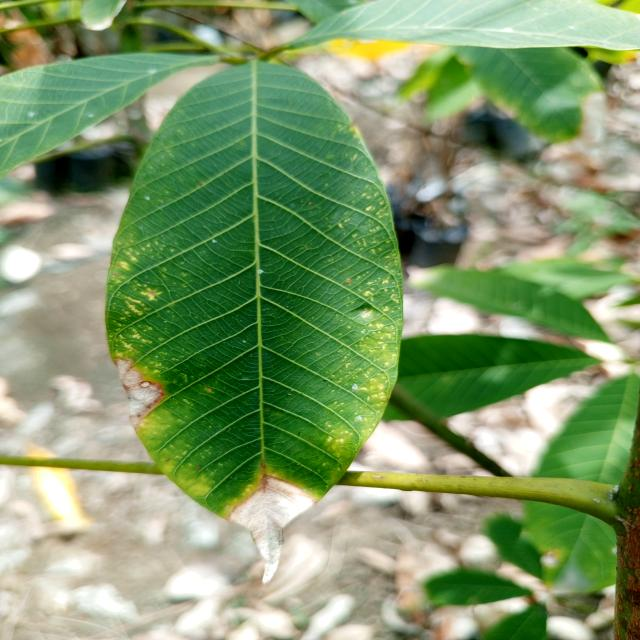Colletotrichum: (139, 380, 152, 389)
Leaf-Blight: (225, 473, 319, 584), (112, 358, 165, 429)
